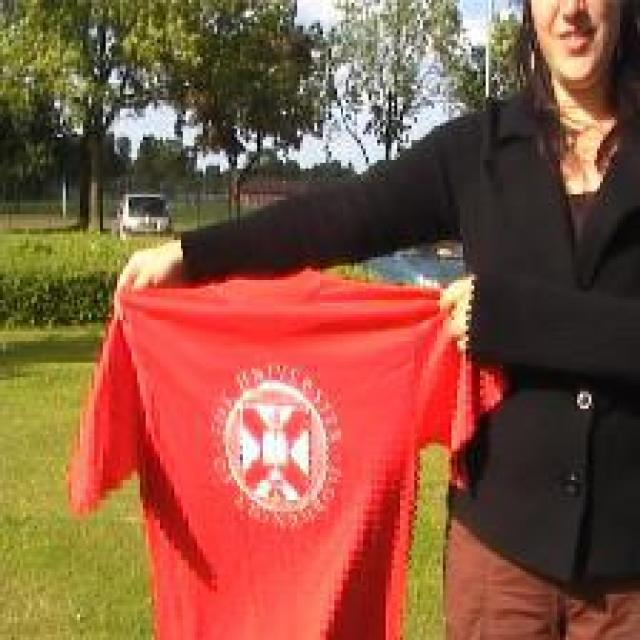other: (96, 252, 487, 626)
